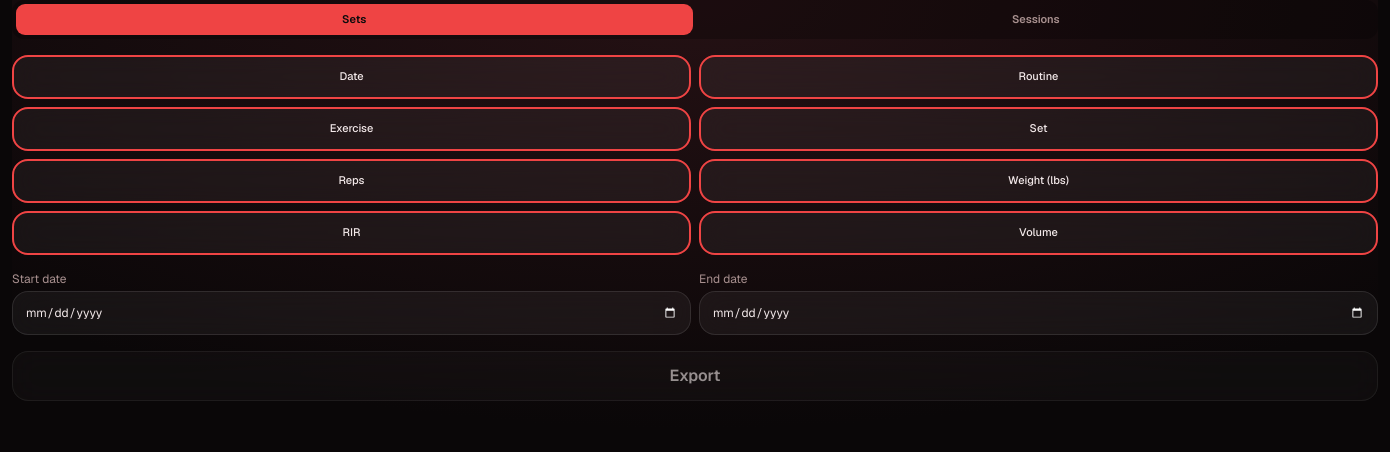
Test: ExportPanel › shows the error the action returned
The image size is (1390, 452).
Type "2026-08-01" into the date field labelled "Start date" at (352, 312), box 12,290 -> 691,334
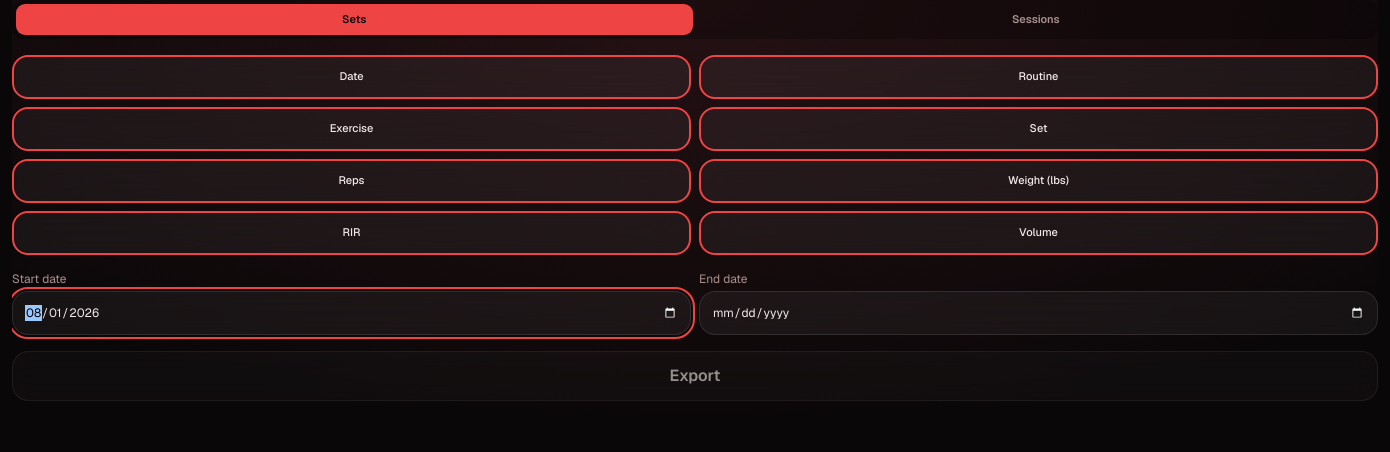
Type "2026-08-12" into the date field labelled "End date" at (1038, 312), box 699,290 -> 1378,334
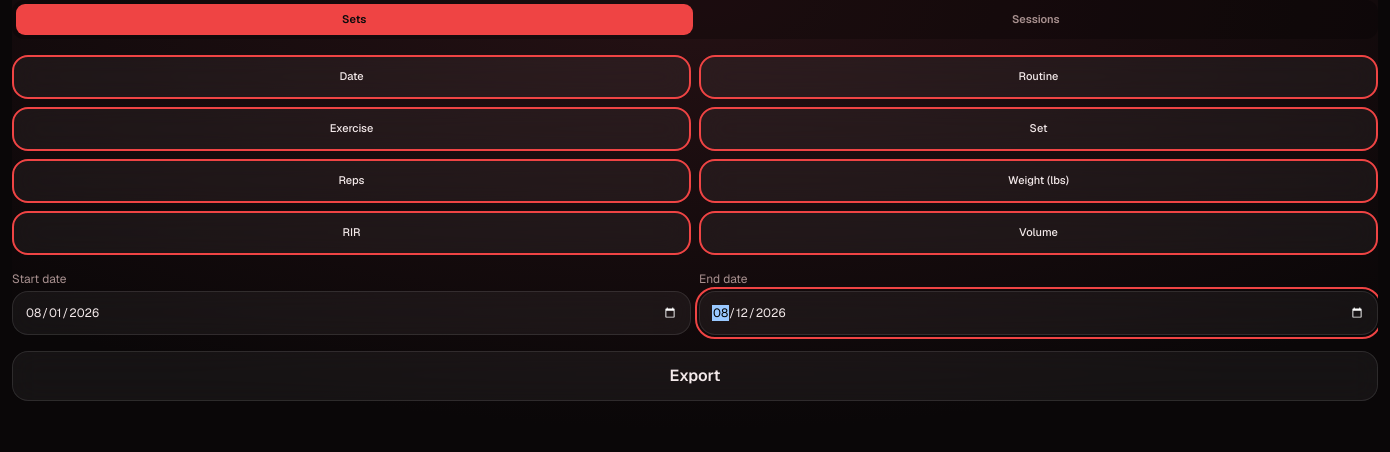
Click the button "Export" at (695, 376), box 12,350 -> 1378,400
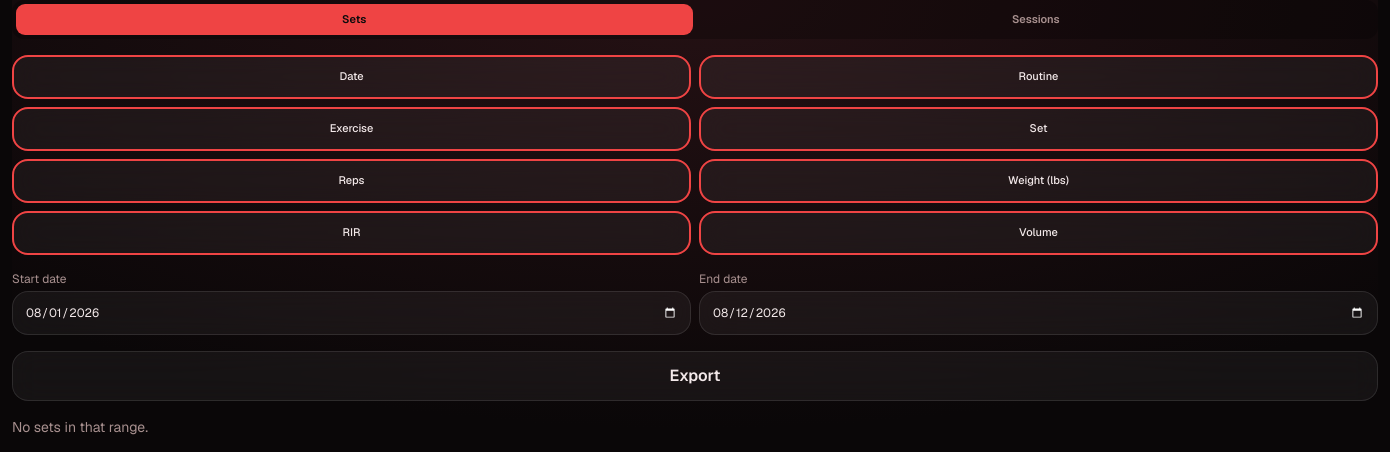
Result: the text "No sets in that range." is shown at 12,418 -> 148,436
